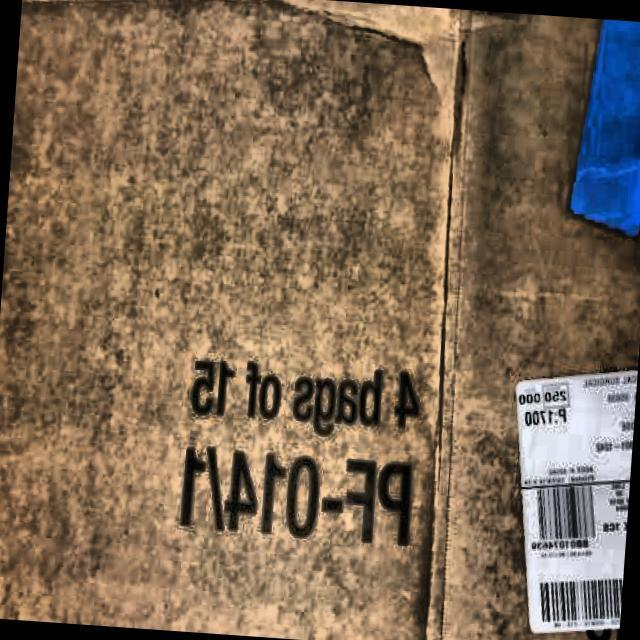cardboard: (0, 0, 640, 640), (419, 9, 640, 640)
